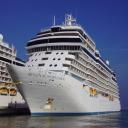cruises: (6, 14, 122, 119)
